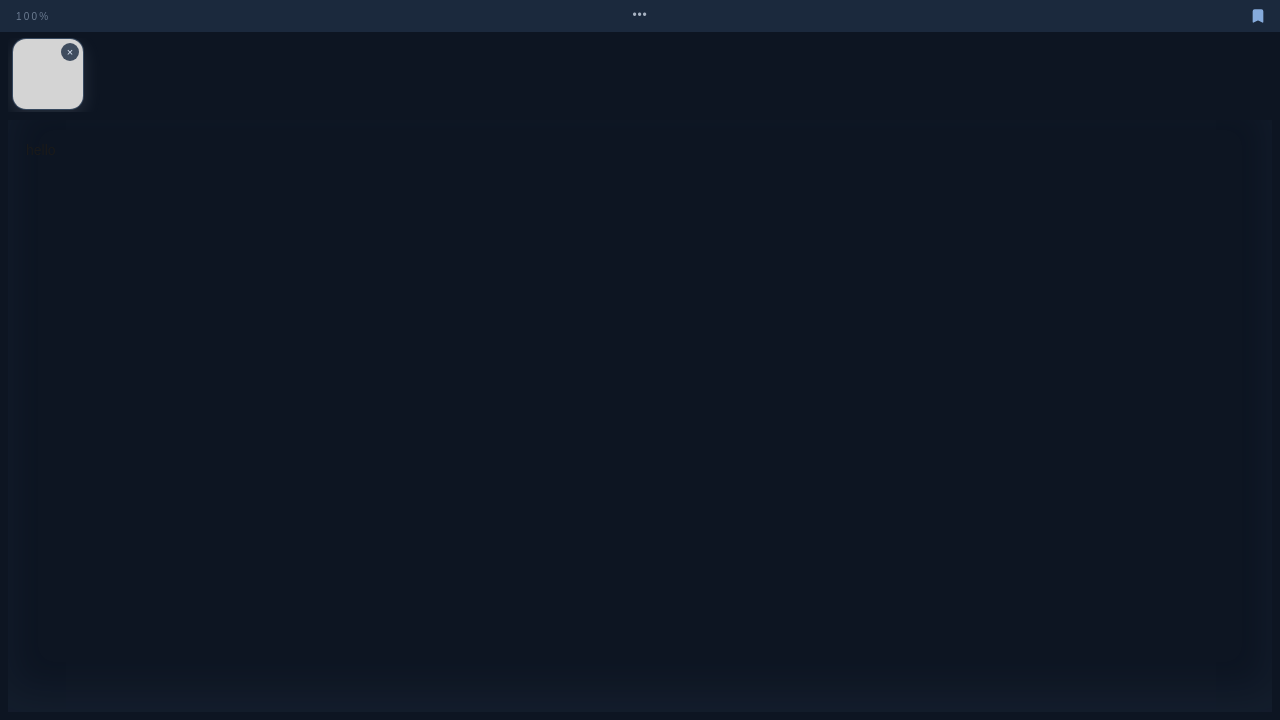
Test: QuickNotePage › 加载 legacy 资源路径图片后可以从 quick note 中移除
Click the button titled "移除图片": x=70, y=52 [61, 43, 79, 61]
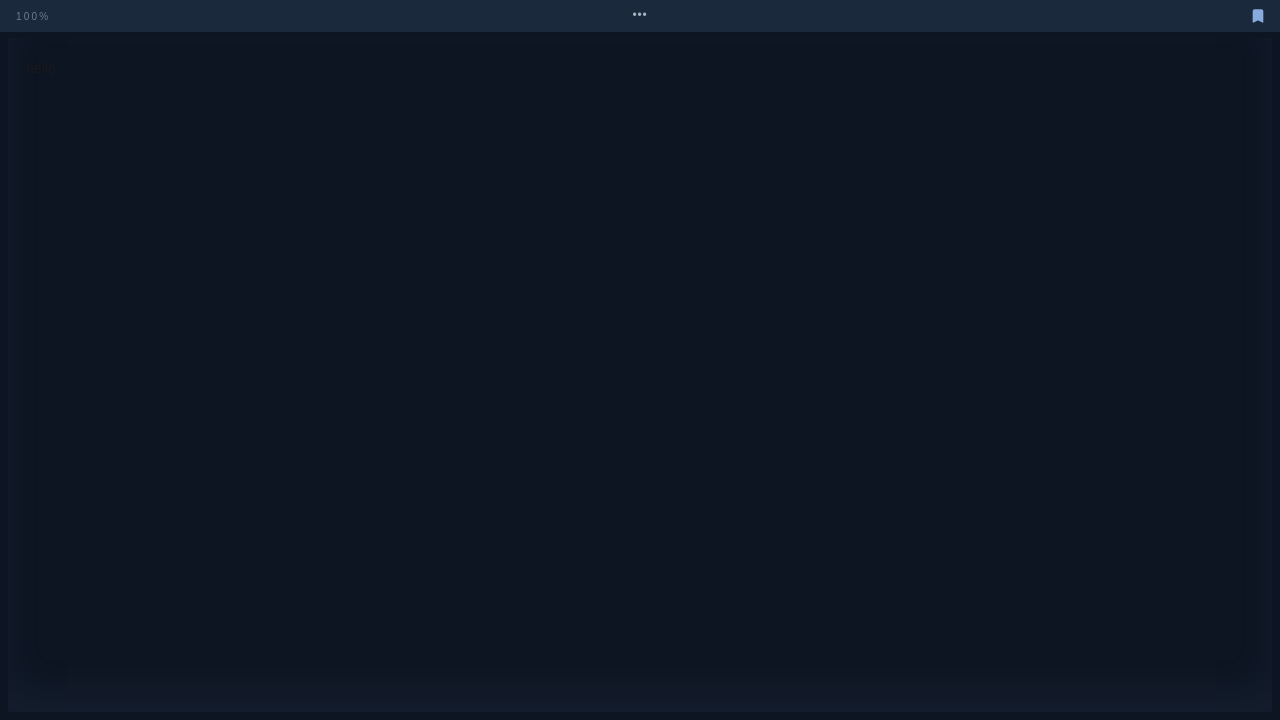
Expected: the picture with alt text "legacy" is gone
